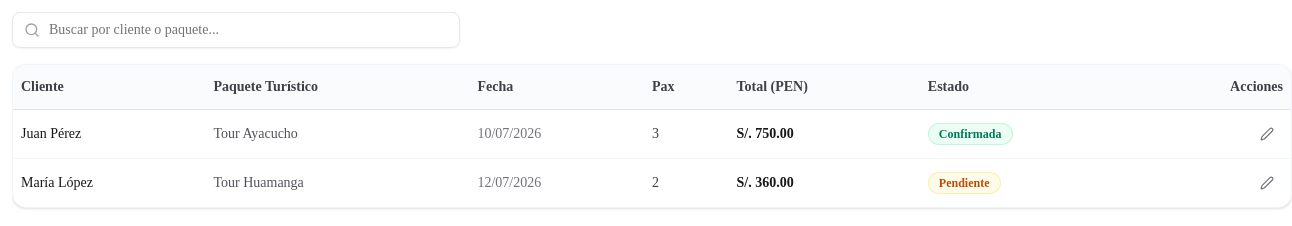
Test: ReservationTable › muestra mensaje cuando no hay resultados
Step 1. Type "ZZZZ" into the field with placeholder "Buscar por cliente o paquete..." → (236, 30), box [12, 12, 460, 48]
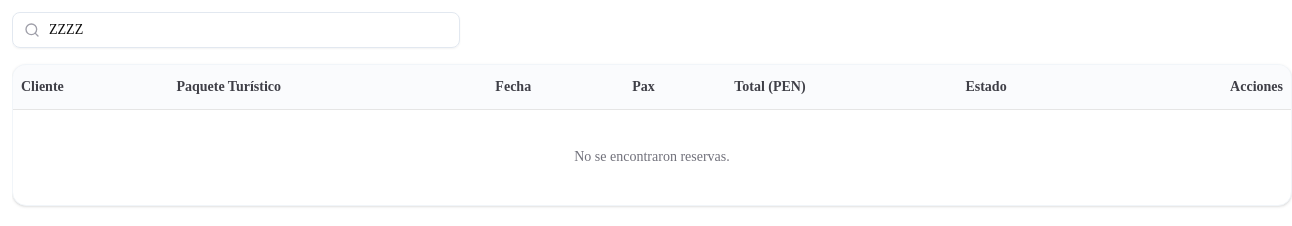
Now the text "No se encontraron reservas." is shown, box [13, 109, 1291, 205]
